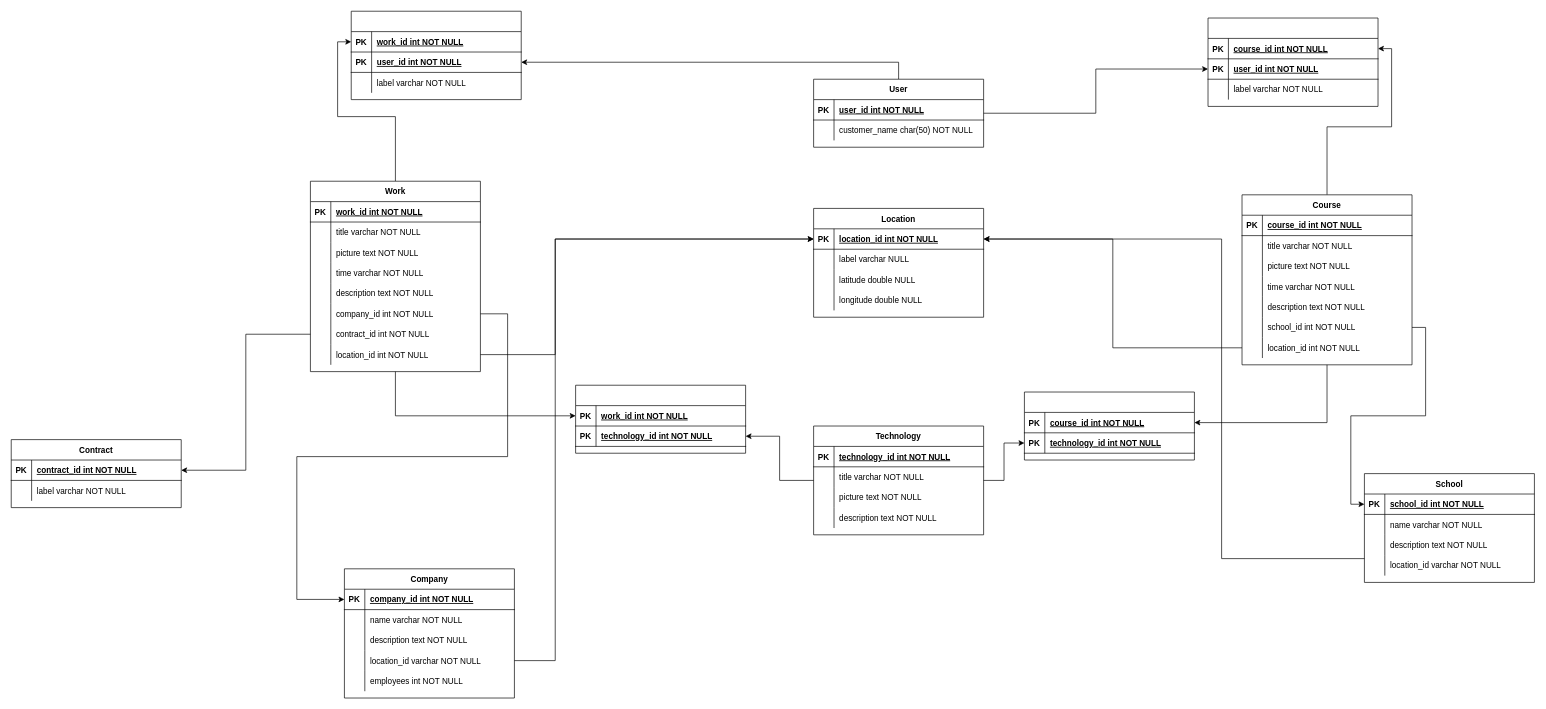
Some shapes in this 1546 by 709 pixel diagram are drawn without their labels. Here are the shapes that lost their labels. From the top down, the box of each, then its label:
(351, 11, 521, 100): Work_User
(1207, 17, 1378, 106): Course_User
(575, 385, 746, 453): Work_Technology
(1024, 391, 1194, 460): Course_Technology
